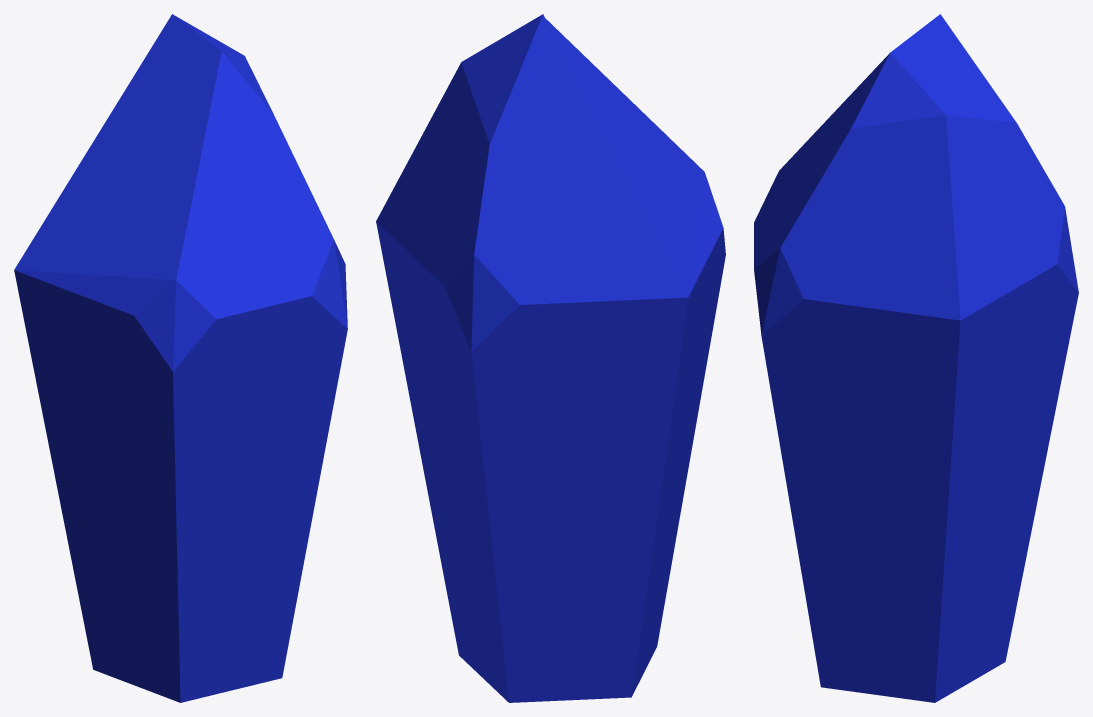
The model's file is Crystal.fbx.
3 views of the same model, side by side, from view 1: azimuth 30°, elevation 25°; view 2: azimuth 150°, elevation 25°; view 3: azimuth 270°, elevation 25° (orthographic). The views are drawn at different scales.
Parts seen in each view (by area): view 1: Cylinder; view 2: Cylinder; view 3: Cylinder.
Part boxes in pixels (x1,y1,x2,y2): Cylinder: [14, 14, 347, 702]; Cylinder: [376, 14, 725, 702]; Cylinder: [754, 14, 1078, 702].
Bounding box in the file's own units: 371 × 754 × 343.
